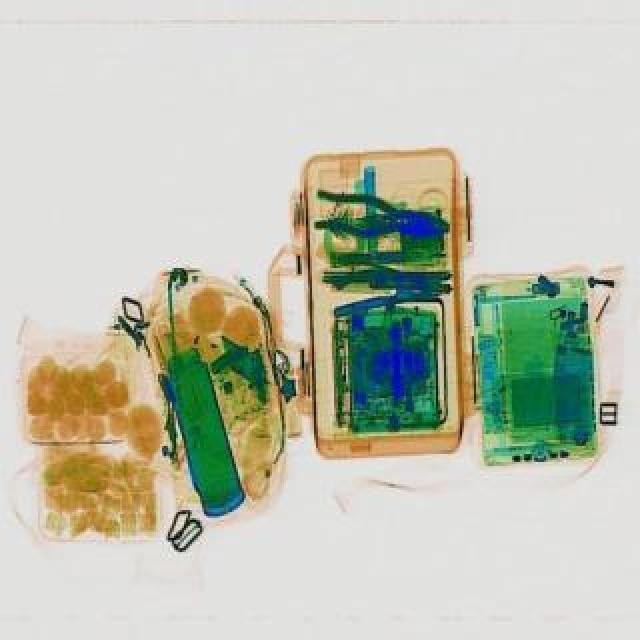wrench: (310, 186, 452, 246)
